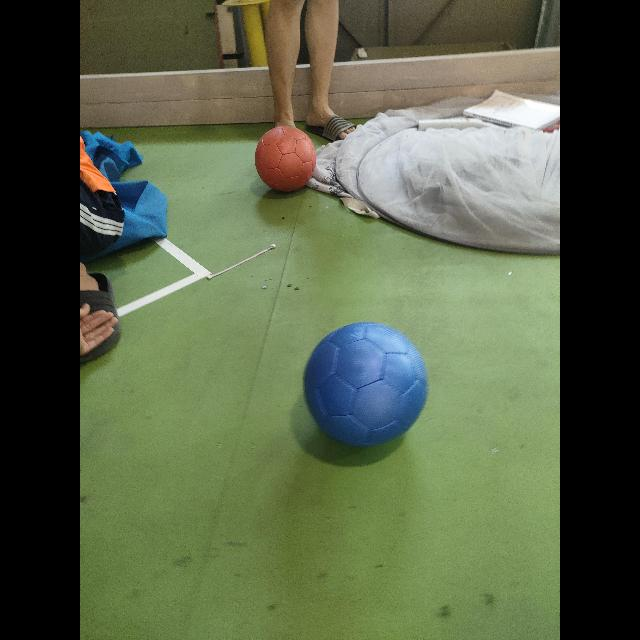B: (304, 322, 428, 446)
R: (255, 126, 316, 191)
